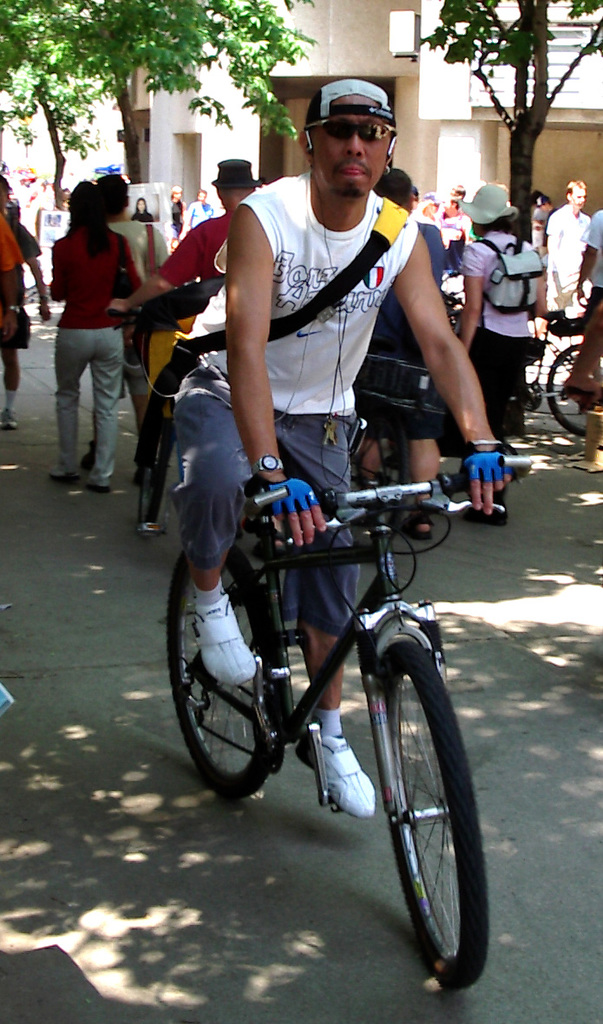Bike_toward: (128, 457, 547, 999)
